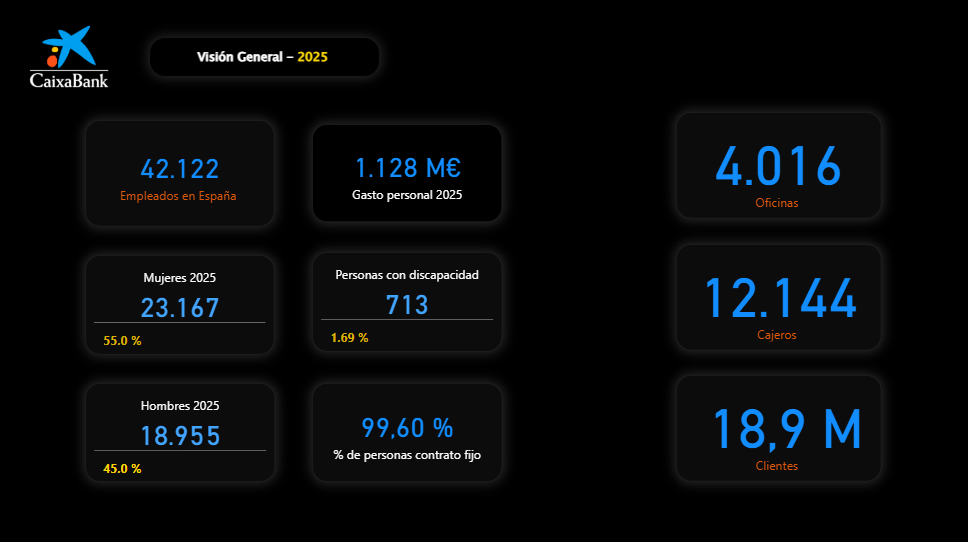

The dashboard page shown, as its layout file describes it:
{"tool":"powerbi","page":{"name":"Indicadores basicos 2025 ","canvas":[1280,720],"ordinal":0},"visuals":[{"type":"card","fields":{"Values":["Medidas.Empleados 2025 EINF"]},"box":[263.3,170.7,269.8,121.1],"z":0},{"type":"card","fields":{"Values":["Tabla.Oficinas 2025"]},"box":[878.1,170.7,269.8,119.7],"z":1000},{"type":"card","fields":{"Values":["Tabla.Gasto personal 2025"]},"box":[263.3,528.5,269.8,119.7],"z":2000},{"type":"card","fields":{"Values":["Tabla.Cajeros 2025"]},"box":[878.1,346.8,269.8,119.7],"z":3000},{"type":"image","box":[4.7,29.7,179.5,95.2],"z":4000},{"type":"card","fields":{"Values":["Medidas.Clientes 2025"]},"box":[878.1,528.5,269.8,119.7],"z":5000},{"type":"textbox","box":[417,46.8,535.4,59.2],"z":6000},{"type":"cardVisual","fields":{"Data":["Medidas.Hombres 2025"]},"box":[95.3,338.6,269.8,141.8],"z":7000},{"type":"cardVisual","fields":{"Data":["Medidas.Mujeres 2025"]},"box":[414.7,338.6,269.8,140.4],"z":8000}]}

Visuals, with their boxes in screenshot pixels (x1, y1, x2, y2), scaled from the page's 1280x720 canvas onto the 968x542 screenshot:
card - Medidas.Empleados 2025 EINF: 199/128/403/220
card - Tabla.Oficinas 2025: 664/128/868/219
card - Tabla.Gasto personal 2025: 199/398/403/488
card - Tabla.Cajeros 2025: 664/261/868/351
image: 4/22/139/94
card - Medidas.Clientes 2025: 664/398/868/488
textbox: 315/35/720/80
cardVisual - Medidas.Hombres 2025: 72/255/276/362
cardVisual - Medidas.Mujeres 2025: 314/255/518/361
